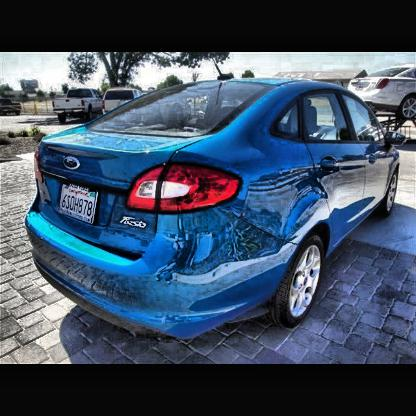Ford Fiesta Sedan 2012: (25, 78, 402, 345)
